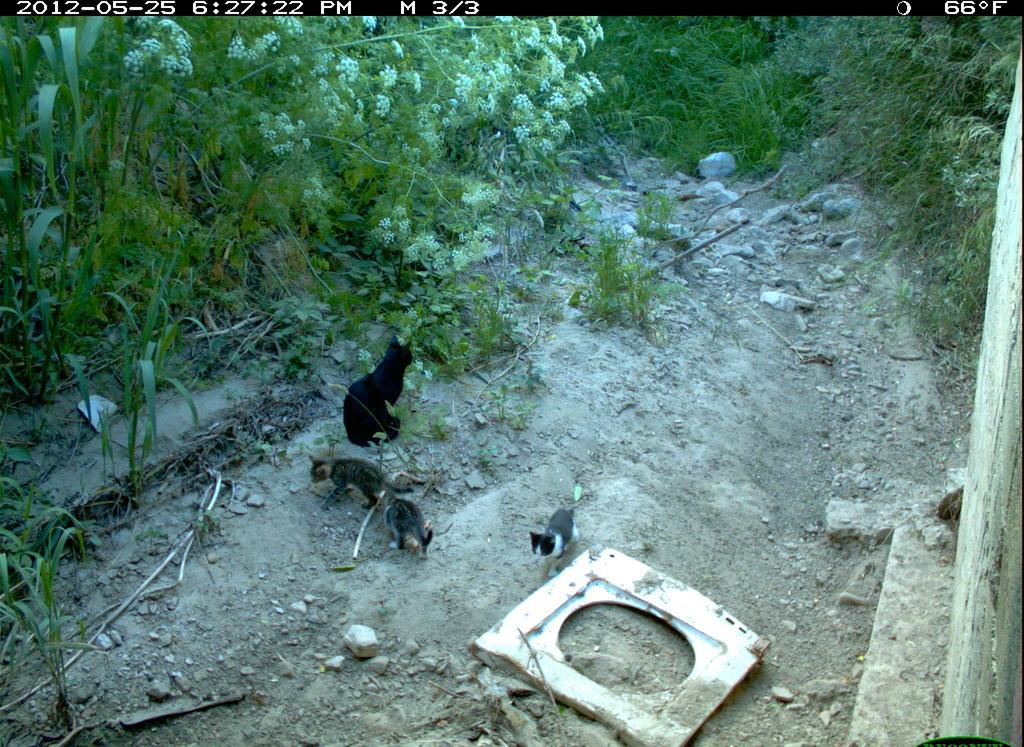cat: (344, 327, 428, 450), (308, 447, 405, 510), (372, 488, 438, 562), (522, 504, 583, 580)
